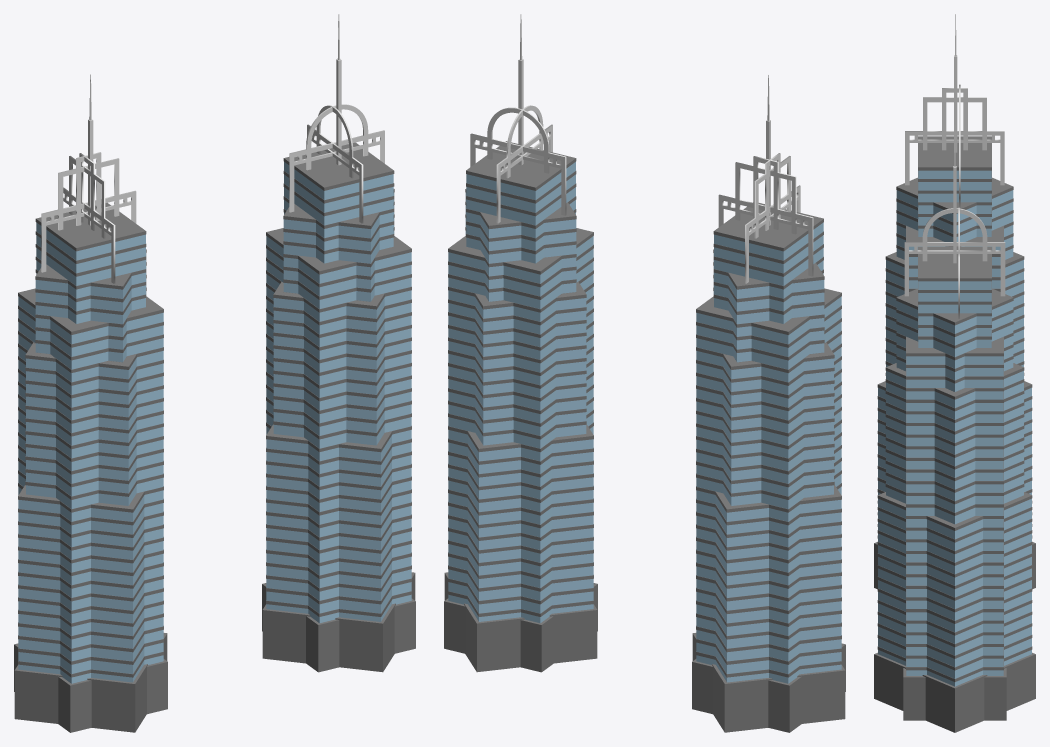
Rendered from asset.glb.
The picture shows the model from 3 angles, left to right: view 1: azimuth 30°, elevation 25°; view 2: azimuth 150°, elevation 25°; view 3: azimuth 270°, elevation 25°; orthographic projection. The views are drawn at different scales.
Parts seen in each view (by area): view 1: Building.012, Building.003, Building.001, Building.014, Building.013, Building.002, Building.010, Building.005, Building.006, Building.009, Building.011, Building.004 (+6 smaller); view 2: Building.003, Building.012, Building.001, Building.014, Building.013, Building.002, Building.010, Building.005, Building.006, Building.009, Building.011, Building.004 (+6 smaller); view 3: Building.014, Building.012, Building.013, Building.010, Building.009, Building.005, Building.011, Building.004, Building.002, Curve.001, Building.008, Curve.003 (+5 smaller).
Boxes of the visible parts, bbox=[...] form: Building.012: bbox=[266, 228, 411, 623]; Building.003: bbox=[18, 288, 163, 683]; Building.001: bbox=[18, 473, 163, 682]; Building.014: bbox=[266, 424, 411, 621]; Building.013: bbox=[273, 282, 384, 445]; Building.002: bbox=[25, 342, 136, 505]; Building.010: bbox=[283, 142, 394, 263]; Building.005: bbox=[35, 202, 146, 323]; Building.006: bbox=[14, 633, 167, 732]; Building.009: bbox=[262, 572, 415, 672]; Building.011: bbox=[283, 189, 394, 301]; Building.004: bbox=[35, 249, 146, 362]; Building.003: bbox=[696, 288, 841, 683]; Building.012: bbox=[448, 228, 593, 623]; Building.001: bbox=[696, 473, 841, 682]; Building.014: bbox=[448, 424, 593, 621]; Building.013: bbox=[475, 282, 586, 445]; Building.002: bbox=[723, 342, 834, 505]; Building.010: bbox=[466, 141, 576, 263]; Building.005: bbox=[713, 203, 823, 323]; Building.006: bbox=[692, 633, 845, 732]; Building.009: bbox=[444, 572, 597, 672]; Building.011: bbox=[465, 189, 576, 301]; Building.004: bbox=[713, 249, 824, 362]; Building.014: bbox=[877, 492, 1032, 686]; Building.012: bbox=[906, 336, 1003, 675]; Building.013: bbox=[885, 363, 1024, 524]; Building.010: bbox=[918, 247, 991, 348]; Building.009: bbox=[874, 652, 1035, 732]; Building.005: bbox=[918, 136, 991, 237]; Building.011: bbox=[896, 288, 1013, 391]; Building.004: bbox=[896, 177, 1013, 259]; Building.002: bbox=[885, 252, 1024, 375]; Curve.001: bbox=[905, 88, 1004, 185]; Building.008: bbox=[903, 668, 1006, 720]; Curve.003: bbox=[904, 208, 1005, 296].
Size of the model in its own units: 9.53 by 14.21 by 3.63.
